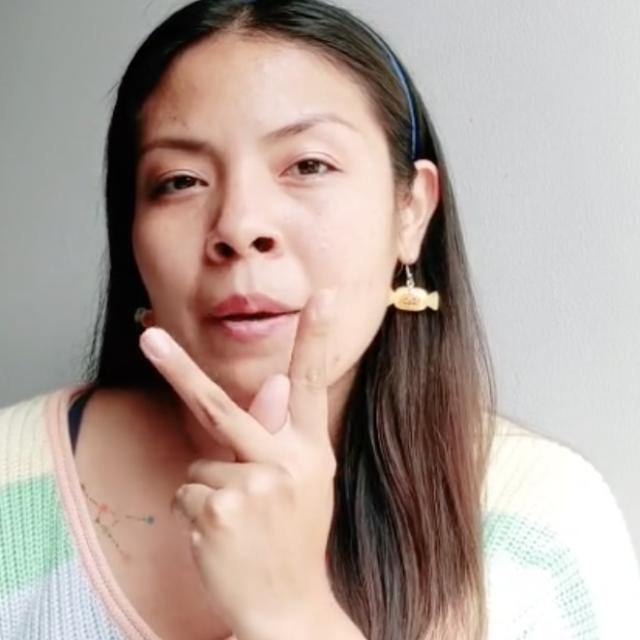PAPA: (121, 283, 362, 632)
